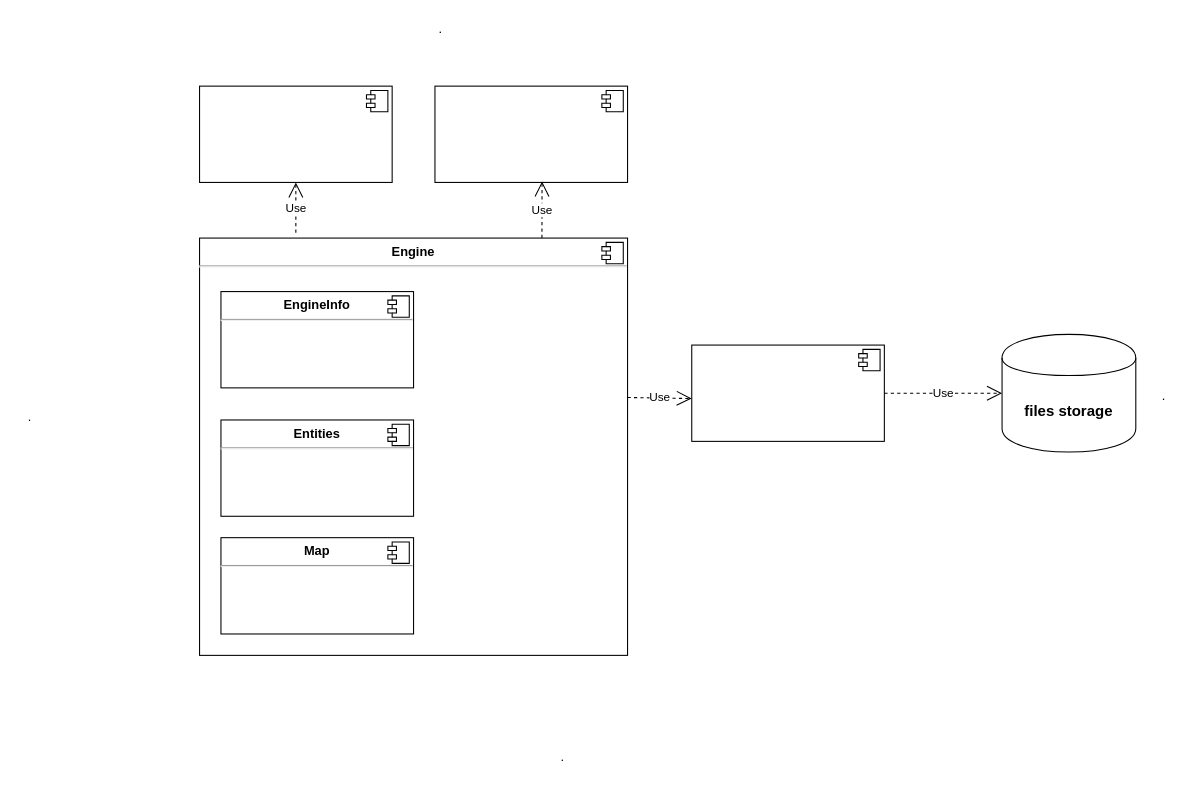
Some shapes in this 1192 by 785 pixel diagram are drawn without their labels. The centre of each missing label's shape, as x and y in pixels:
"KeysHandler" goes at (295,133).
"Render" goes at (531,133).
"Serializer" goes at (787,392).
